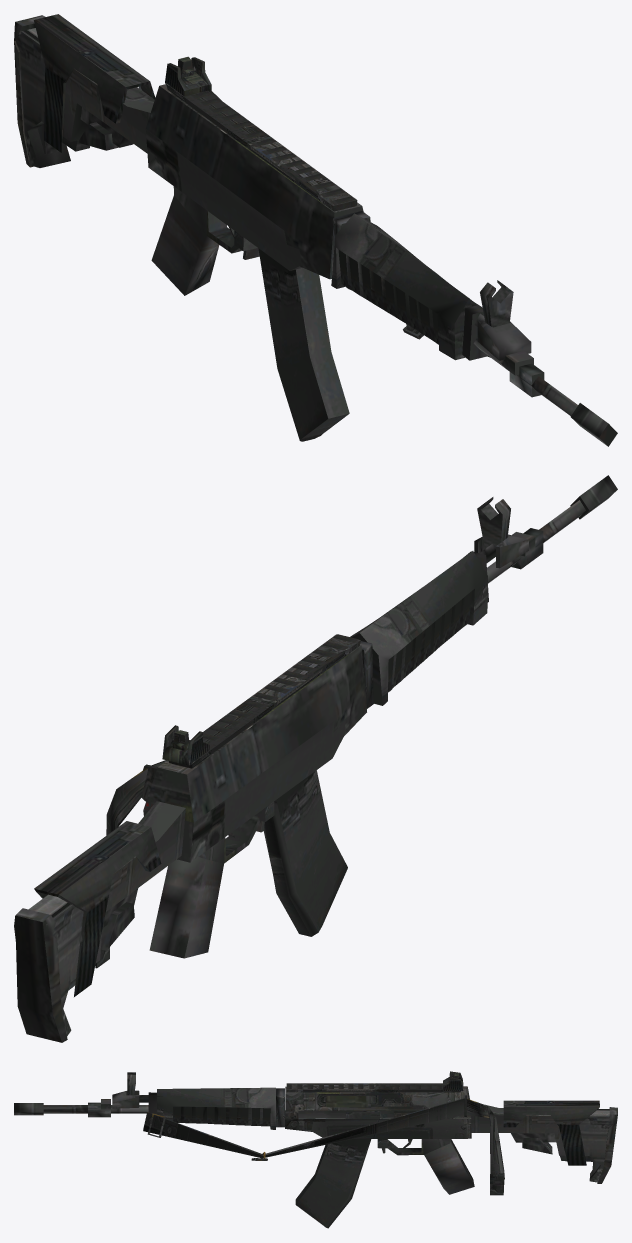
Rendered from Assault_Rifle_QBZ03_qs_lod1_Body_LOD_(000951).glb.
3 views of the same model, one above another, from view 1: azimuth 30°, elevation 25°; view 2: azimuth 150°, elevation 25°; view 3: azimuth 270°, elevation 25° (orthographic). The views are drawn at different scales.
Parts seen in each view (by area): view 1: QBZ03_qs_lod1; view 2: QBZ03_qs_lod1; view 3: QBZ03_qs_lod1.
Part boxes in pixels (x1=…): QBZ03_qs_lod1: x1=14, y1=14, x2=617, y2=446; QBZ03_qs_lod1: x1=14, y1=475, x2=617, y2=1042; QBZ03_qs_lod1: x1=14, y1=1071, x2=617, y2=1228.
Bounding box in the file's own units: 0.1069 × 0.3073 × 1.09.
1 material, 1 textured.
